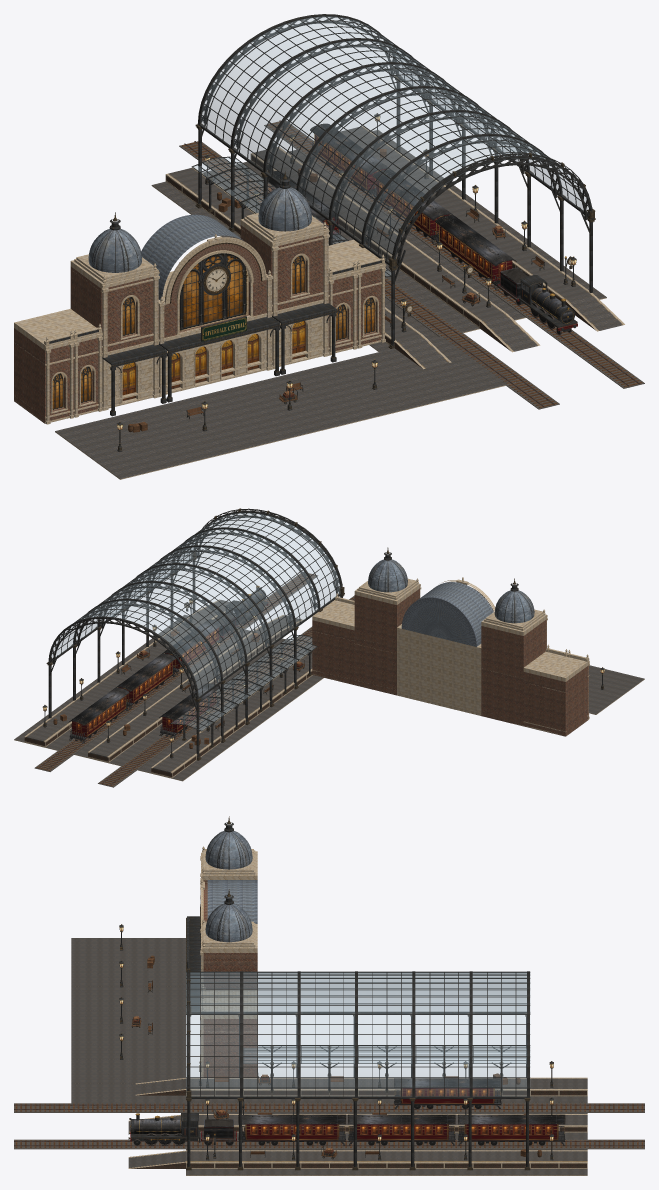
File: Riverdale_Station_assembled.glb
3 views of the same model, one above another, from view 1: azimuth 30°, elevation 25°; view 2: azimuth 150°, elevation 25°; view 3: azimuth 270°, elevation 25° (orthographic). The views are drawn at different scales.
Parts seen in each view (by area): view 1: glazed_roof (×7), plaza_continuous_paving (×15), clock_hall, west_tower, east_tower, west_outer_bay, platform_paving (×7), ramp_sloped_deck (×3), barrel_roof (×3), west_inner_bay, east_outer_bay, east_inner_bay (+1 smaller); view 2: glazed_roof (×11), clock_hall, west_tower, east_tower, west_outer_bay, barrel_roof (×4), platform_paving (×6), plaza_continuous_paving (×4), west_inner_bay, east_outer_bay, east_inner_bay, carriage_body (×2); view 3: glazed_roof (×6), plaza_continuous_paving (×14), platform_paving (×9), barrel_roof (×4), east_tower, carriage_body (×4), east_outer_bay, west_tower, clock_hall, ramp_sloped_deck (×2), round_boiler, east_inner_bay.
Boxes of the visible parts, bbox=[...] form: glazed_roof (×7): bbox=[193, 16, 588, 265]; plaza_continuous_paving (×15): bbox=[55, 304, 516, 478]; clock_hall: bbox=[141, 214, 280, 402]; west_tower: bbox=[70, 212, 166, 416]; east_tower: bbox=[240, 171, 337, 374]; west_outer_bay: bbox=[14, 315, 74, 424]; platform_paving (×7): bbox=[168, 168, 590, 320]; ramp_sloped_deck (×3): bbox=[395, 293, 624, 369]; barrel_roof (×3): bbox=[310, 123, 516, 266]; west_inner_bay: bbox=[43, 309, 102, 417]; east_outer_bay: bbox=[328, 239, 386, 348]; east_inner_bay: bbox=[328, 249, 357, 355]; glazed_roof (×11): bbox=[51, 513, 340, 730]; clock_hall: bbox=[397, 577, 495, 715]; west_tower: bbox=[481, 578, 547, 726]; east_tower: bbox=[354, 547, 421, 695]; west_outer_bay: bbox=[544, 650, 589, 736]; barrel_roof (×4): bbox=[68, 619, 222, 725]; platform_paving (×6): bbox=[26, 683, 194, 772]; plaza_continuous_paving (×4): bbox=[102, 669, 644, 780]; west_inner_bay: bbox=[523, 644, 567, 731]; east_outer_bay: bbox=[312, 593, 354, 679]; east_inner_bay: bbox=[333, 606, 354, 684]; carriage_body (×2): bbox=[72, 661, 172, 737]; glazed_roof (×6): bbox=[186, 972, 530, 1096]; plaza_continuous_paving (×14): bbox=[71, 938, 185, 1107]; platform_paving (×9): bbox=[186, 1078, 587, 1161]; barrel_roof (×4): bbox=[238, 1078, 565, 1124]; east_tower: bbox=[186, 889, 257, 1055]; carriage_body (×4): bbox=[245, 1088, 558, 1140]; east_outer_bay: bbox=[200, 997, 257, 1077]; west_tower: bbox=[186, 816, 257, 941]; clock_hall: bbox=[186, 879, 257, 1031]; ramp_sloped_deck (×2): bbox=[128, 1078, 185, 1168]; round_boiler: bbox=[134, 1119, 181, 1133]; east_inner_bay: bbox=[200, 984, 256, 1059].
Size of the model in its own units: 78 by 24.6 by 88.
51 materials, 51 textured.
